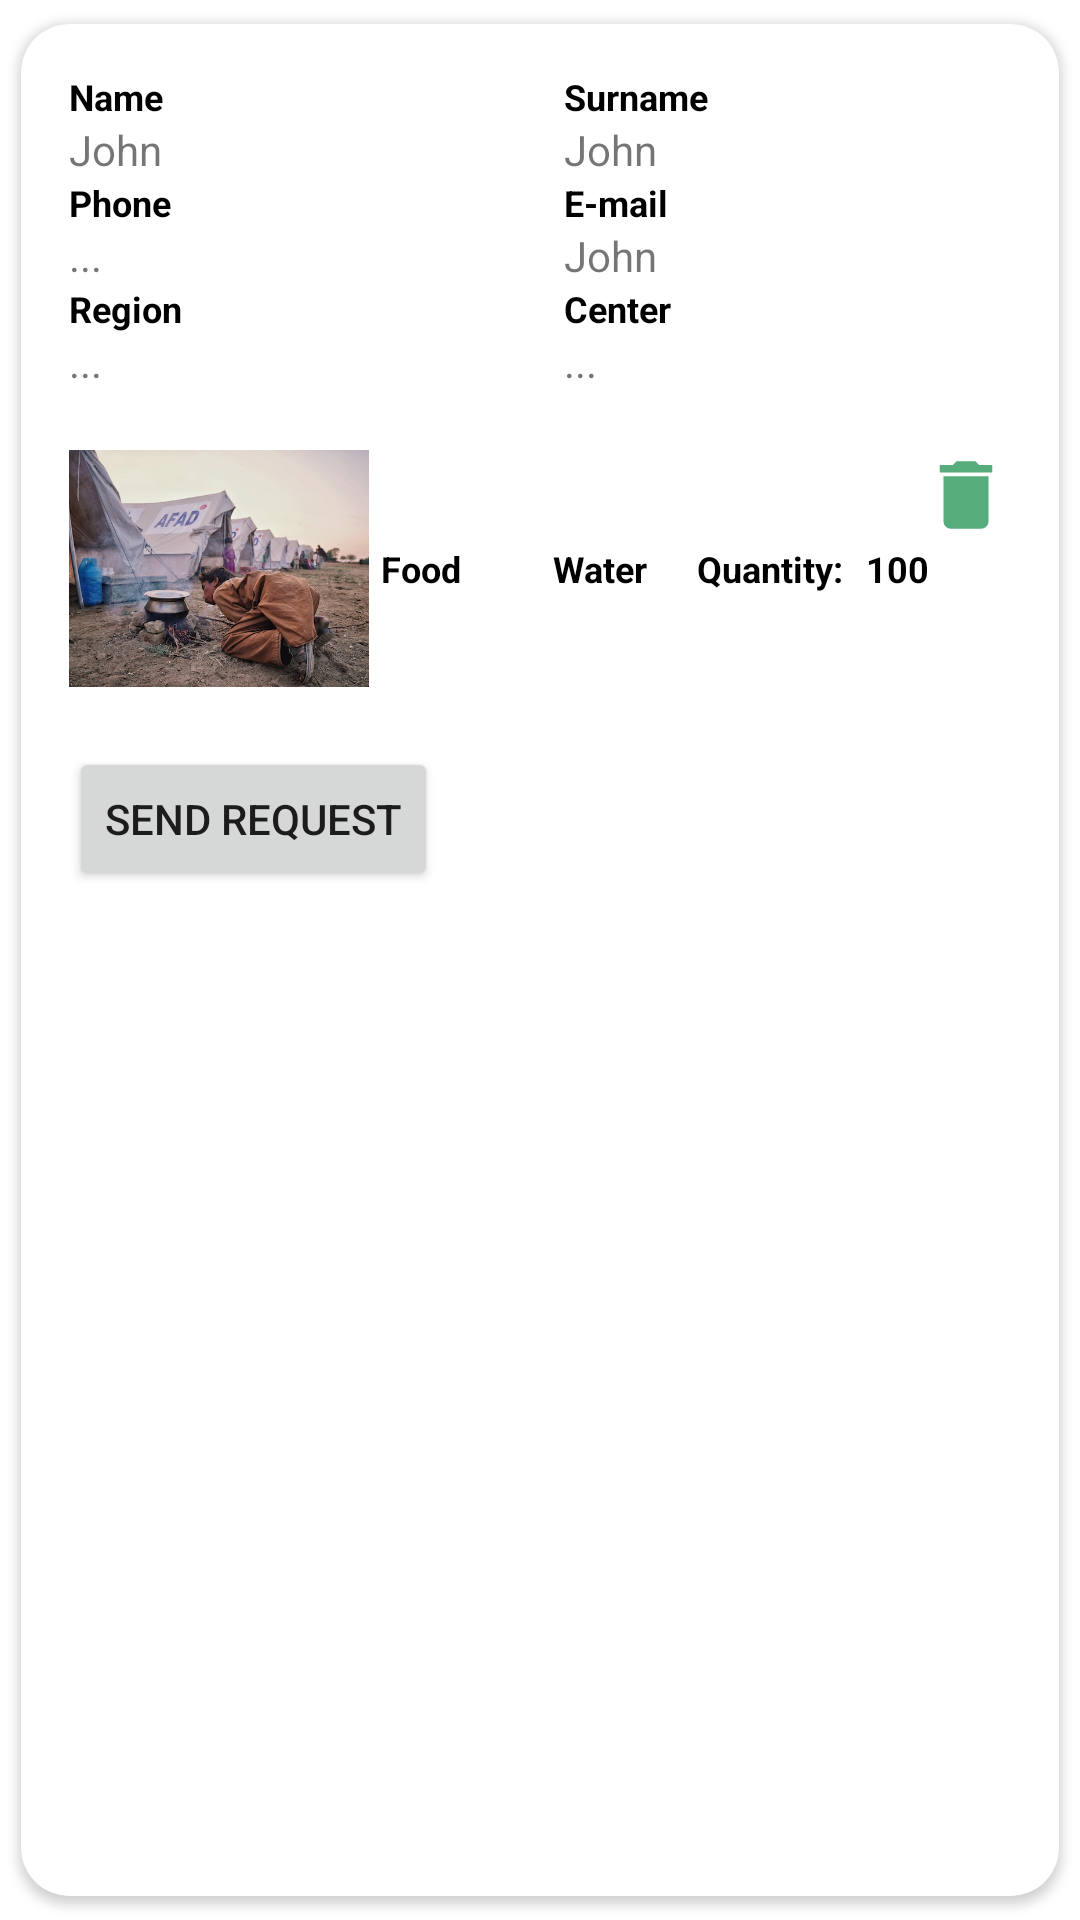

Icons on this 1080w x 1920h Android screen, each with the point to tap as (x,y):
delete: (966,495)
